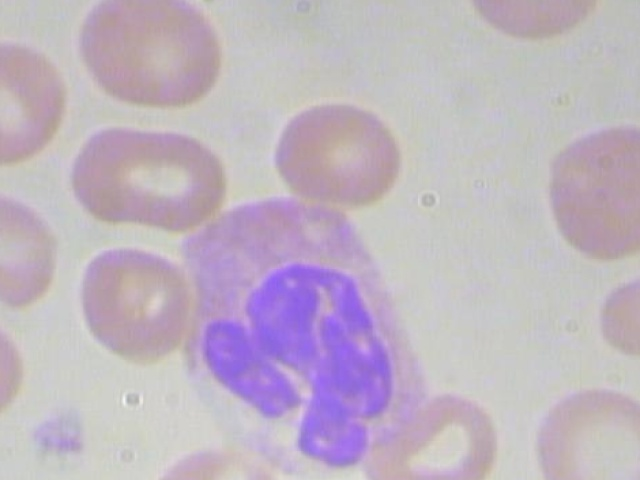RBC: (68, 0, 242, 121), (67, 116, 228, 235), (256, 92, 417, 211), (65, 244, 198, 371), (535, 122, 640, 265), (357, 385, 510, 480), (530, 379, 640, 480), (0, 26, 70, 175), (0, 175, 67, 311), (136, 446, 293, 480), (0, 293, 32, 440)
WBC: (141, 187, 431, 477)
